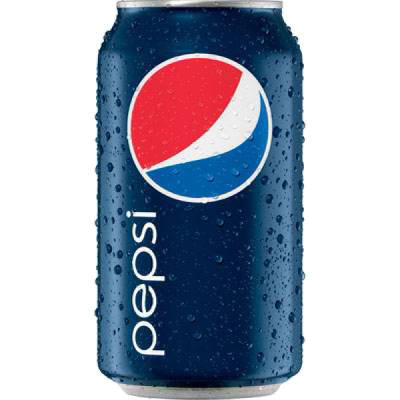pepsi: (92, 2, 305, 400)
